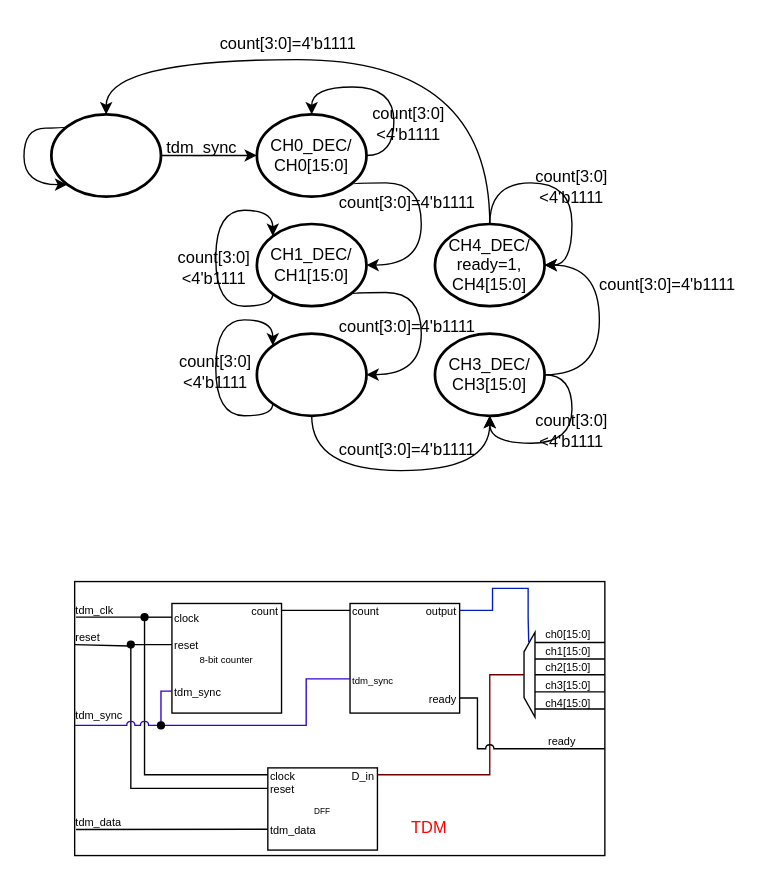
Image size: 759x880. Some labels were removed from this diagram. The shapes that lost their labels are listed below. From the top down, each one's box as (x1, y1, x2, y2) in pixels, then its label:
(49, 112, 162, 197): IDLE/ ready = 0
(255, 332, 367, 416): CH2_DEC/ CH2[15:0]
(349, 602, 460, 713): FSM
